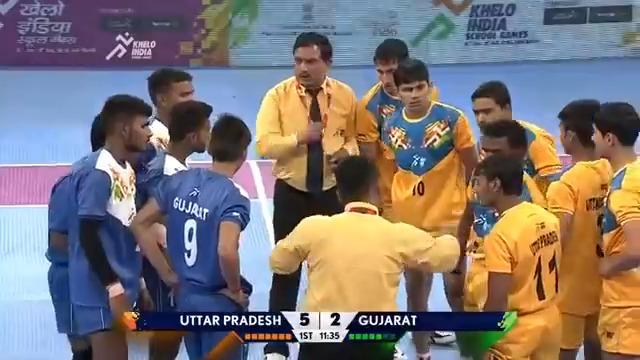Player: (265, 154, 462, 359), (375, 57, 479, 358), (131, 112, 253, 359), (66, 93, 155, 358), (468, 153, 563, 359), (544, 98, 612, 358), (591, 100, 639, 359), (469, 79, 562, 206), (358, 37, 440, 136)
referee: (254, 30, 381, 358)
